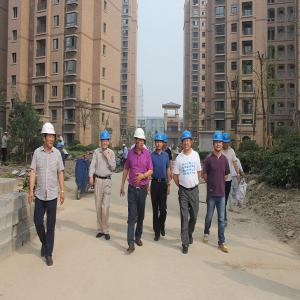blue: (182, 131, 193, 152), (100, 130, 111, 150), (214, 132, 224, 153), (155, 134, 165, 152), (222, 134, 230, 151), (163, 135, 169, 149), (58, 143, 63, 153)
red: (58, 133, 62, 139)
white: (43, 124, 56, 148), (135, 128, 146, 151), (123, 144, 126, 150)
